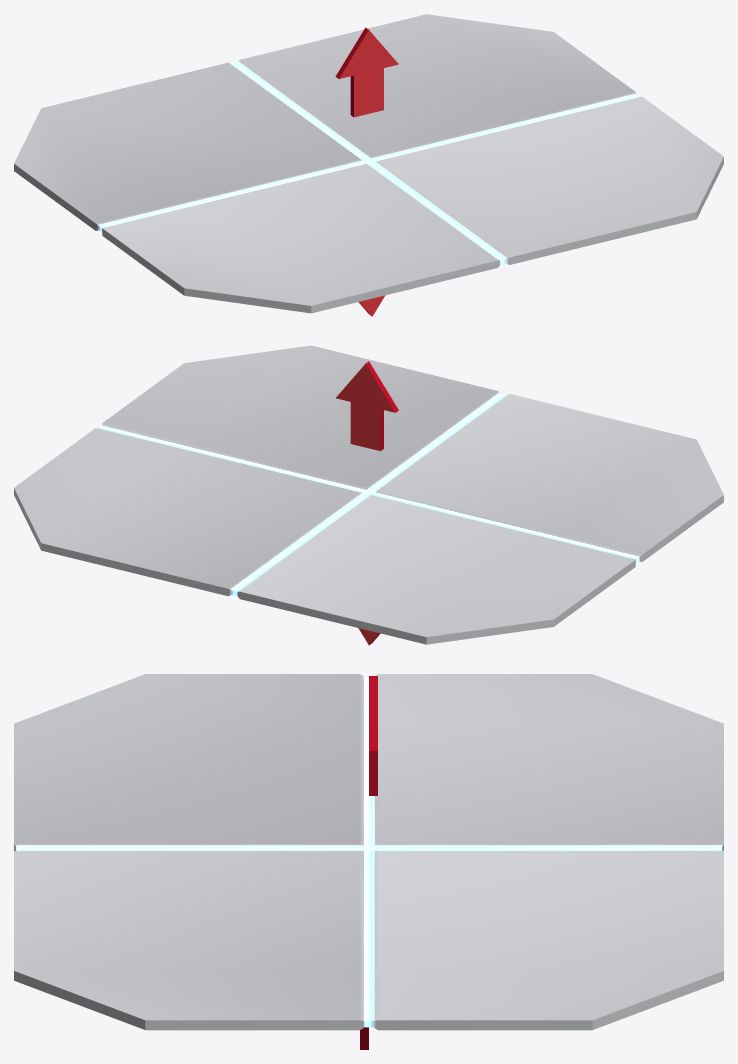
File: Vertical_platform_GSpot.glb
3 renders of one model, top to bottom at view 1: azimuth 30°, elevation 25°; view 2: azimuth 150°, elevation 25°; view 3: azimuth 270°, elevation 25°, orthographic. The views are drawn at different scales.
Visible parts, largest first — view 1: Platform, Plane.001; view 2: Platform, Plane.001; view 3: Platform, Plane.001.
Part boxes in pixels (bbox=[...]): Platform: bbox=[14, 14, 723, 313]; Plane.001: bbox=[335, 27, 398, 117]; Platform: bbox=[14, 345, 723, 644]; Plane.001: bbox=[336, 361, 398, 450]; Platform: bbox=[14, 674, 723, 1030]; Plane.001: bbox=[369, 676, 377, 795].
Bounding box in the file's own units: 6.21 × 3.13 × 5.39.
Materials: 2 (2 with a texture image).
